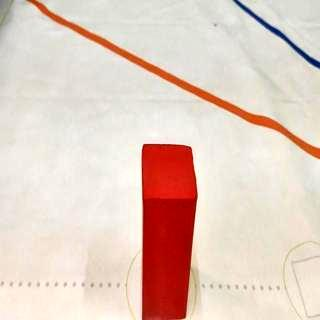redbox: (140, 141, 198, 320)
